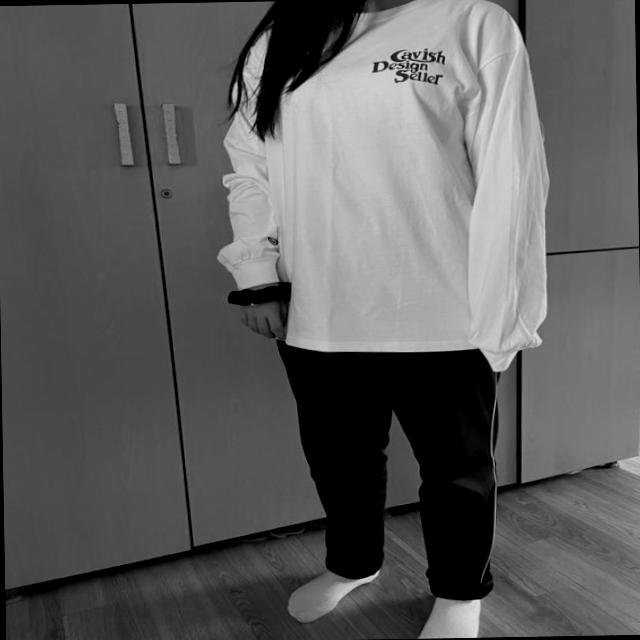longsleeve: (212, 0, 551, 364)
trainingpants: (278, 338, 502, 602)
